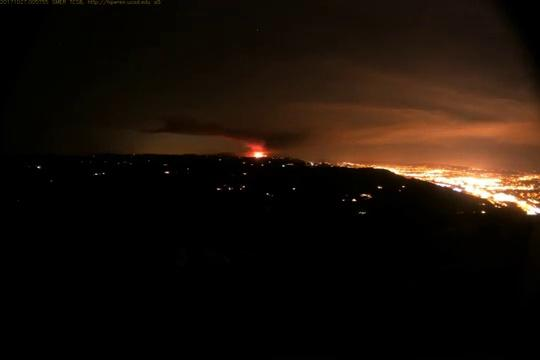fire: (459, 176, 505, 199)
